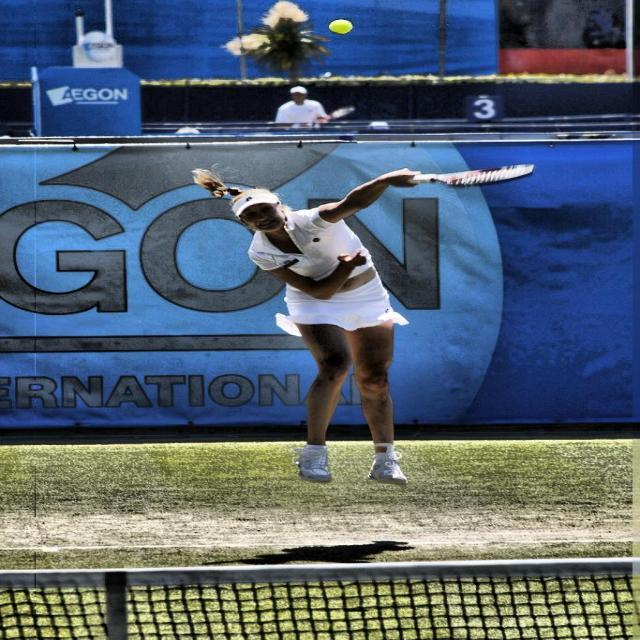tennis-ball: (326, 16, 359, 40)
